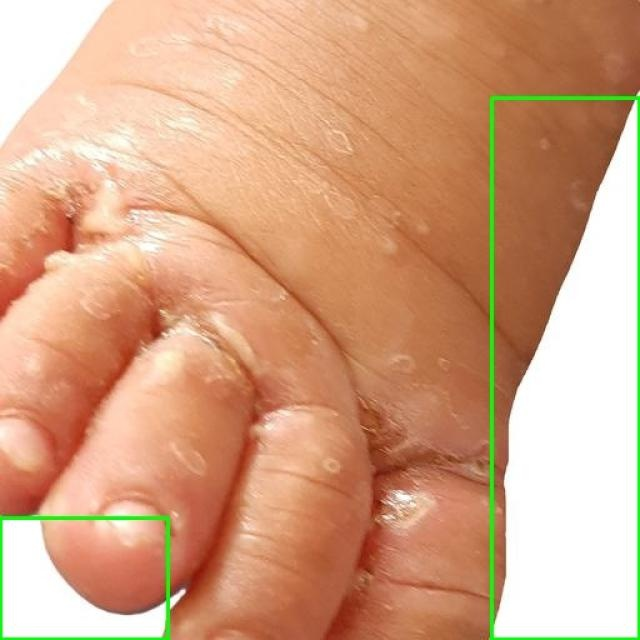Scabies: (491, 98, 639, 639), (0, 518, 169, 639)
